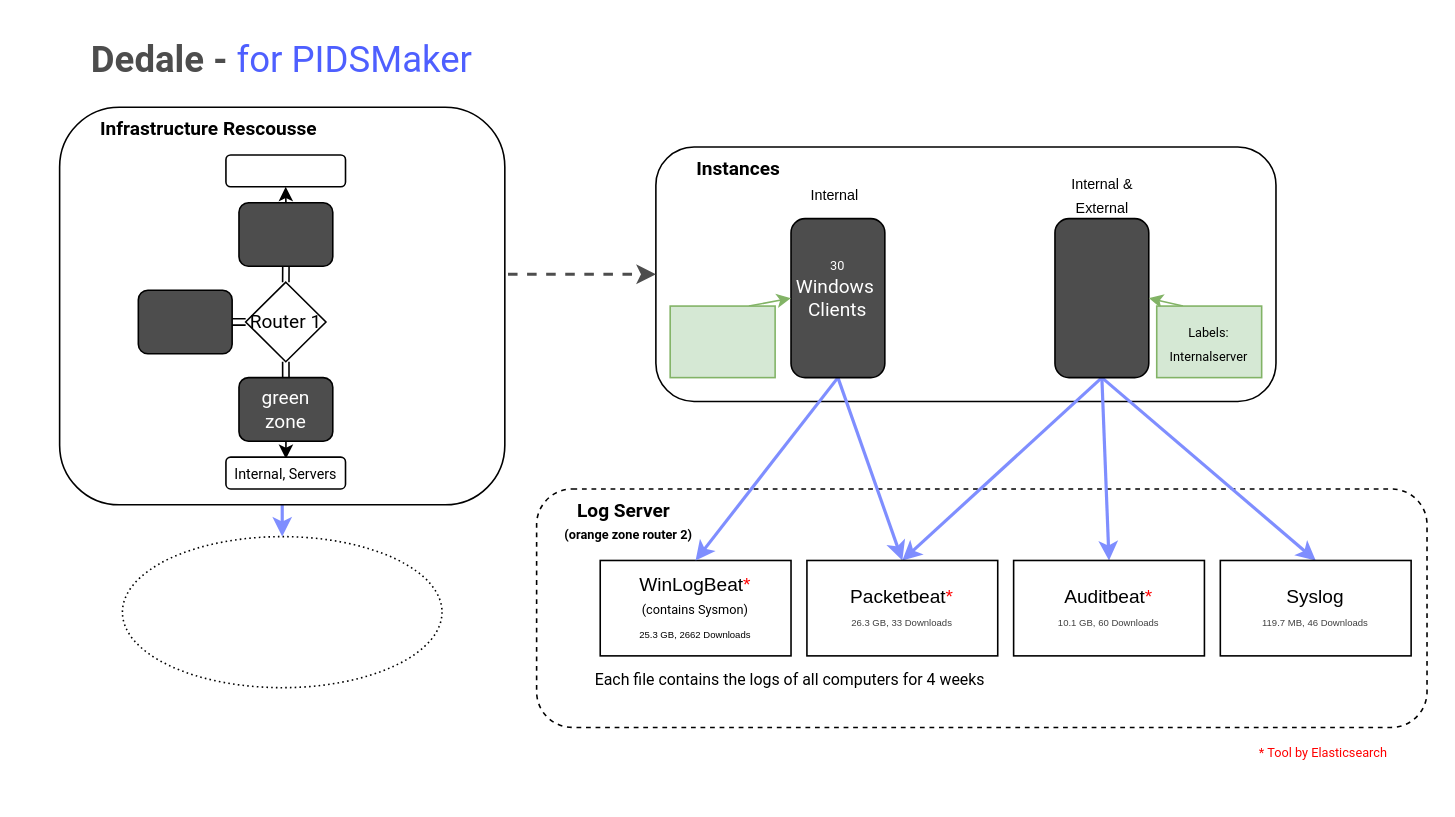
This 1455x817 diagram has some shape labels left out. The shapes that lost their labels are listed below. From the top down, each one's box as (x1, y1, x2, y2) in pixels, then its label:
(224, 153, 346, 187): DMZ
(237, 201, 333, 266): orange zone
(1053, 217, 1149, 378): 5 Linux Servers
(137, 289, 232, 354): red zone
(669, 304, 775, 378): Labels: Client1 & Client2
(121, 535, 442, 688): Network Logs PCAP, CICFlowMeter, Zeek
